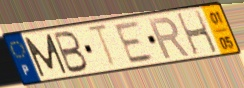B: (51, 30, 90, 75)
E: (112, 19, 157, 66)
H: (175, 9, 220, 57)
M: (22, 32, 70, 79)
R: (146, 15, 192, 61)
T: (85, 23, 119, 70)
